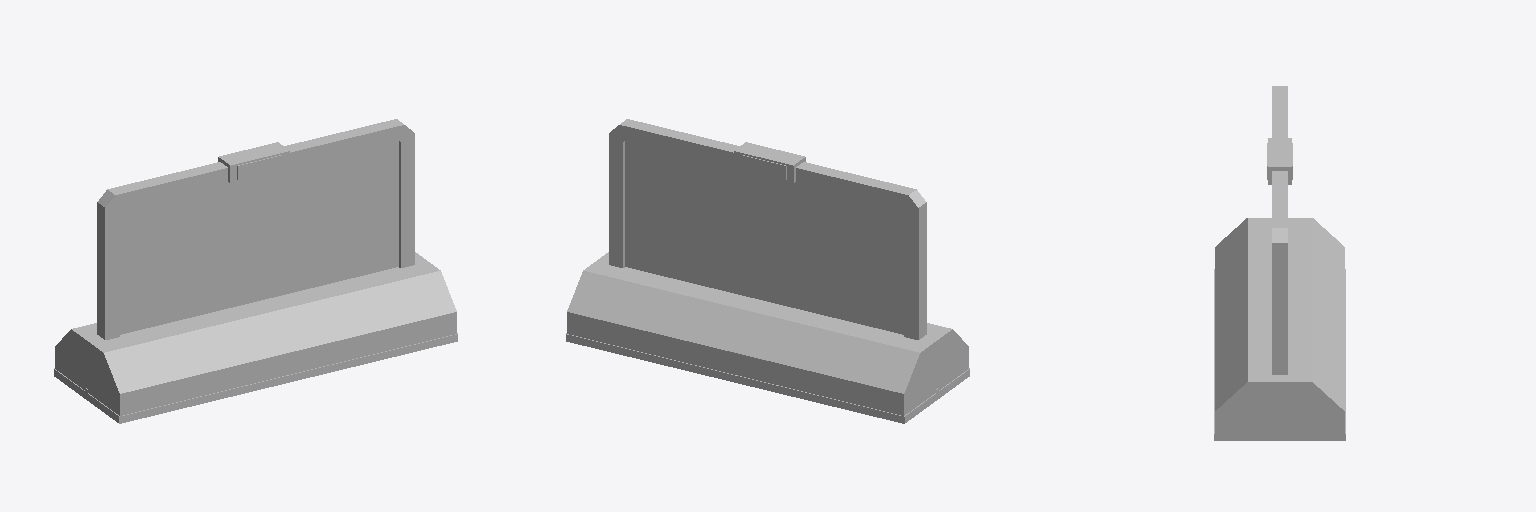
File: roofsign.obj
3 renders of one model, left to right at view 1: azimuth 30°, elevation 25°; view 2: azimuth 150°, elevation 25°; view 3: azimuth 270°, elevation 25°, orthographic.
Parts seen in each view (by area): view 1: cube, &RunningLights_FFFFFF_FFFFF_000; view 2: cube, &RunningLights_FFFFFF_FFFFF_000; view 3: cube.
Part boxes in pixels (x1,y1,x2,y2): cube: (54,119,457,423); &RunningLights_FFFFFF_FFFFF_000: (120,141,398,334); cube: (566,119,969,423); &RunningLights_FFFFFF_FFFFF_000: (625,141,903,334); cube: (1214,86,1345,440).
Size of the model in its own units: 1 by 0.58 by 0.3376.